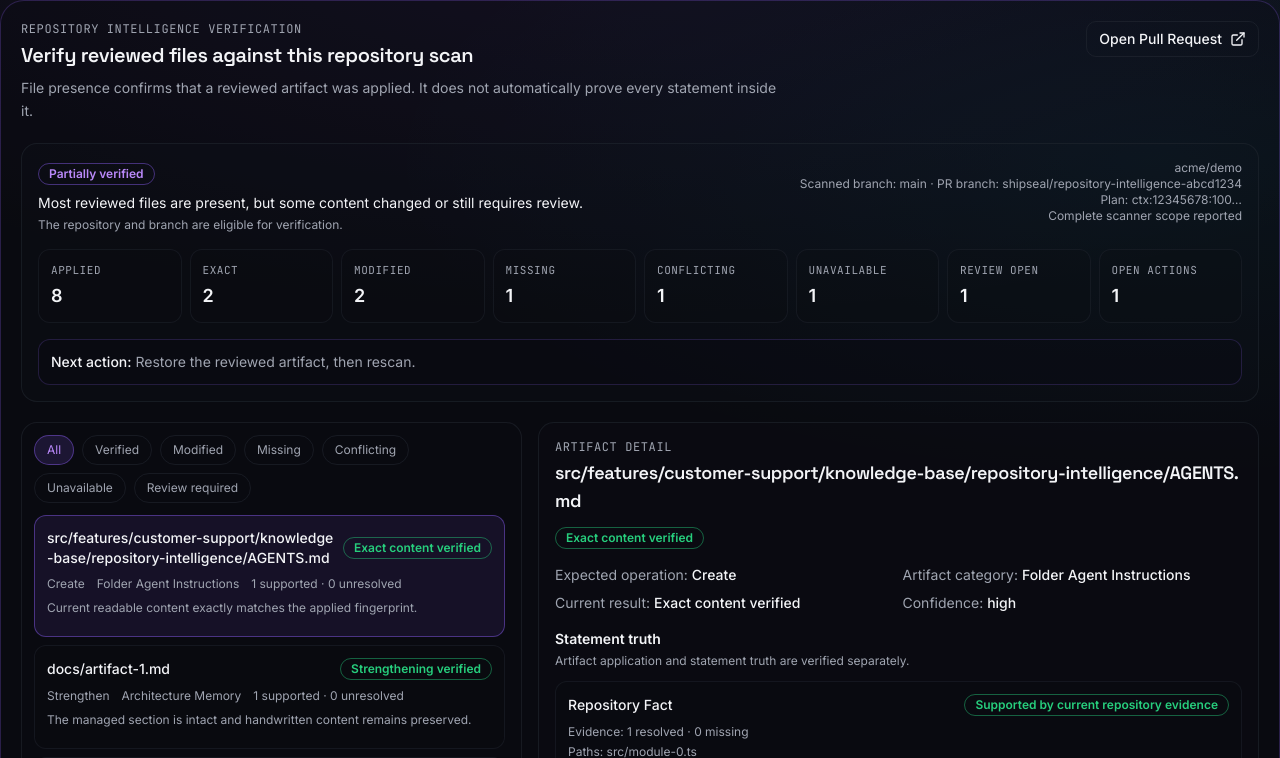
Test case: Repository Intelligence verification experience › filters exact, modified, missing, conflicting, unavailable and review-required artifacts without merging missing and unavailable
Click the button "Missing" at (279, 450), box [244,435,314,465]
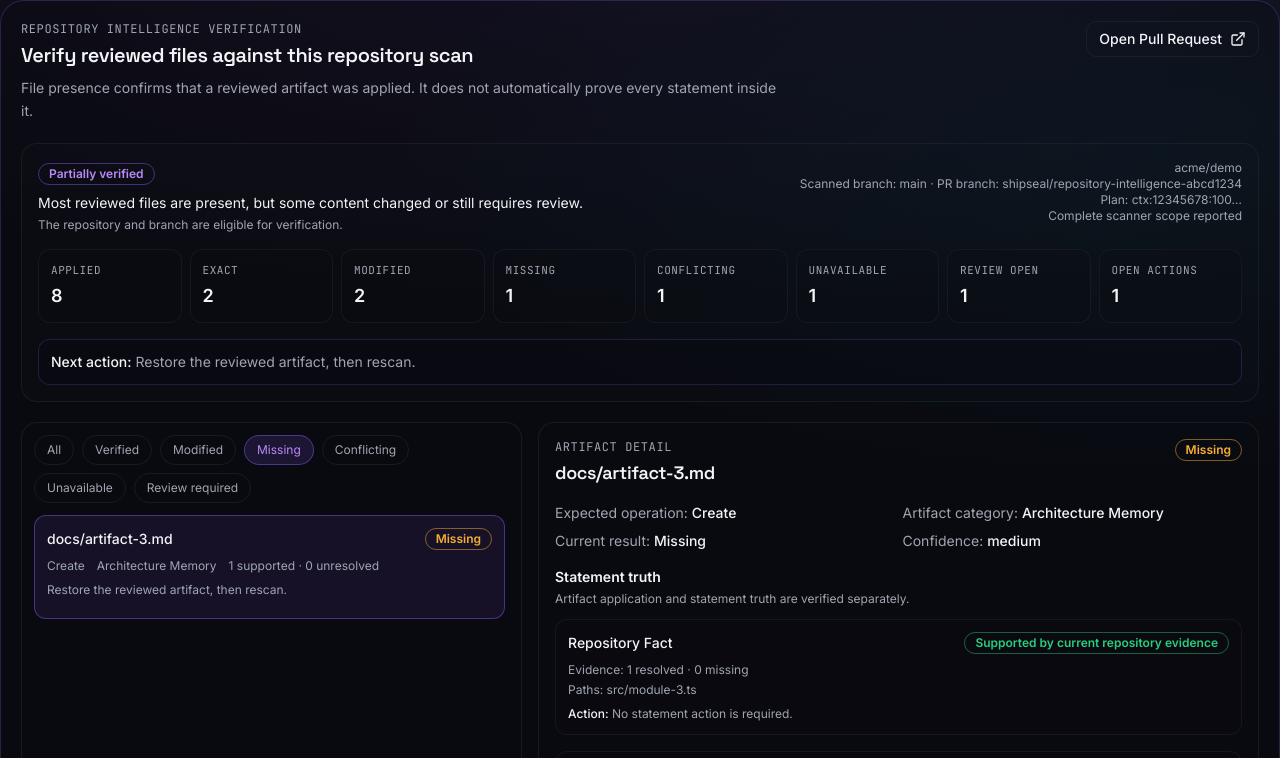
Expected: the text "docs/artifact-3.md" is shown, [47,530,173,547]
Expected: the text "docs/artifact-5.md" is not shown
Click the button "Unavailable" at (80, 488), box [34,473,126,503]
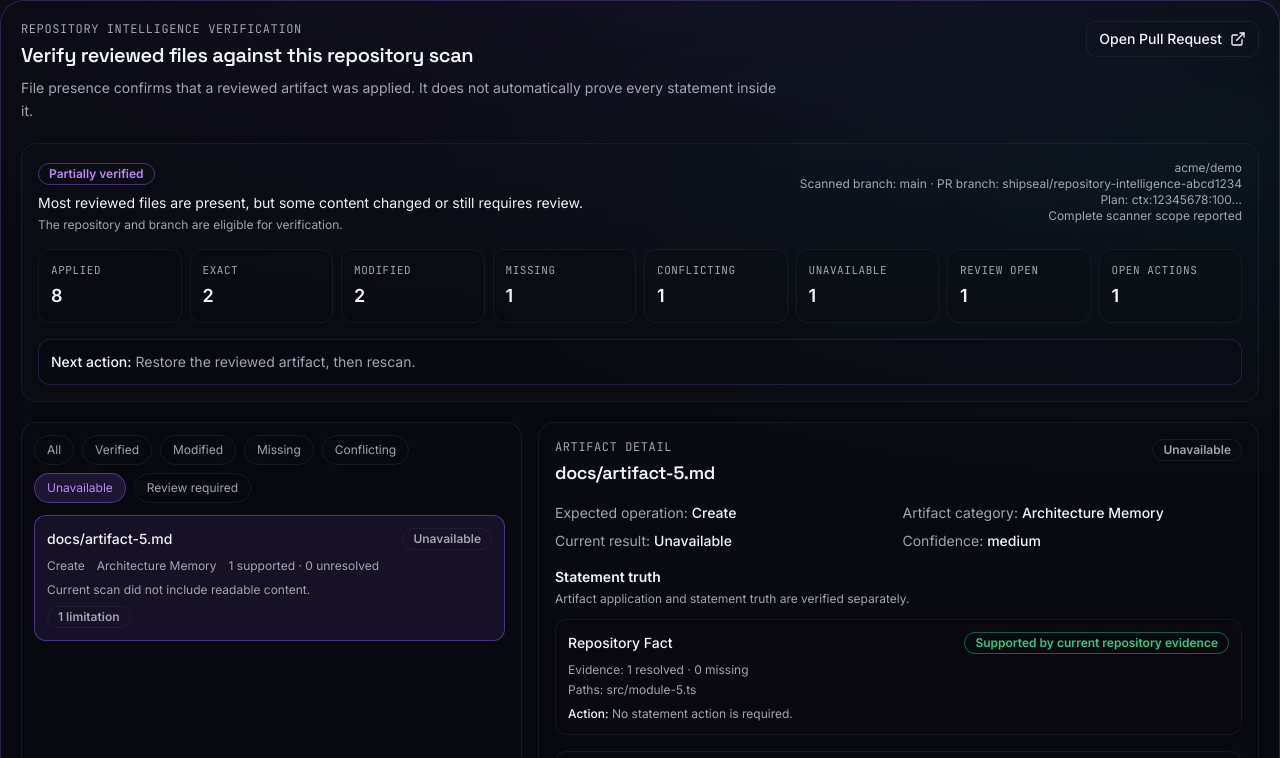
Expected: the text "docs/artifact-3.md" is not shown
Now the text "docs/artifact-5.md" is shown, box [47,530,172,547]
Click the button "Review required" at (192, 488), box [134,473,251,503]
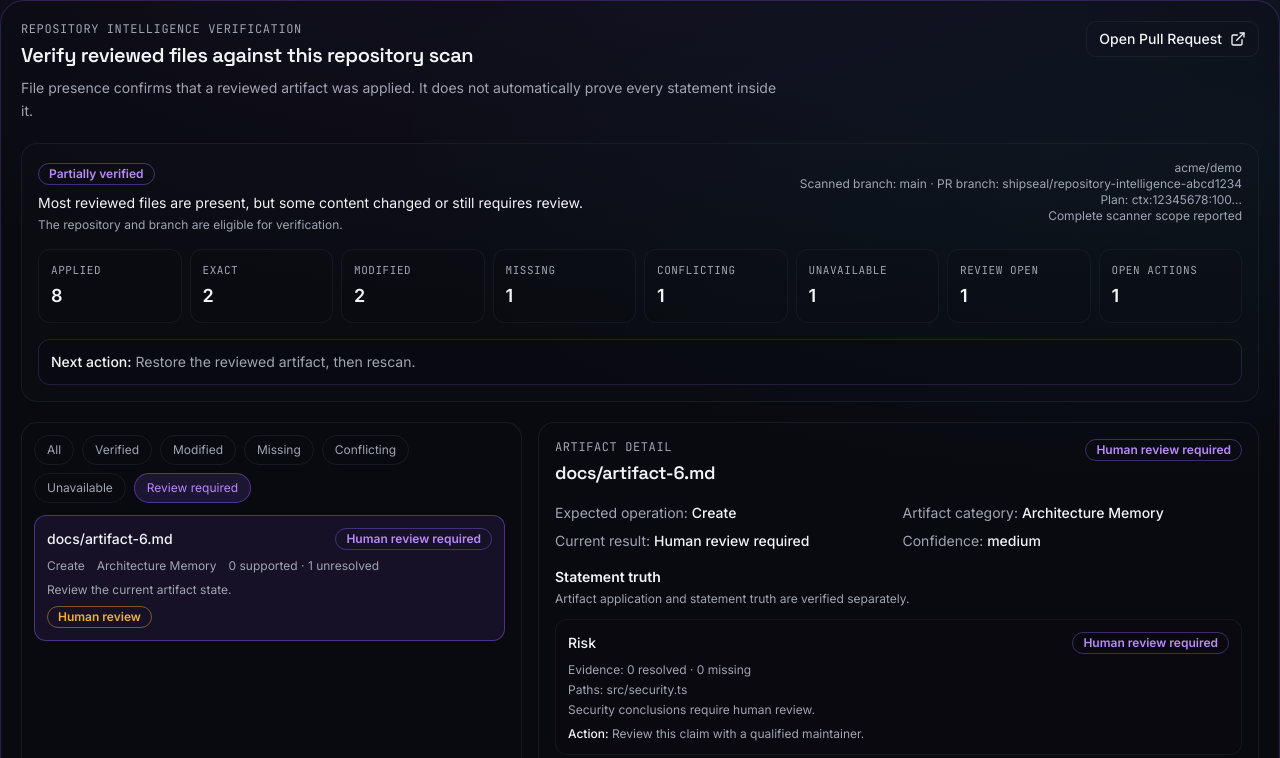
Now the text "docs/artifact-6.md" is shown, box [47,530,173,547]
